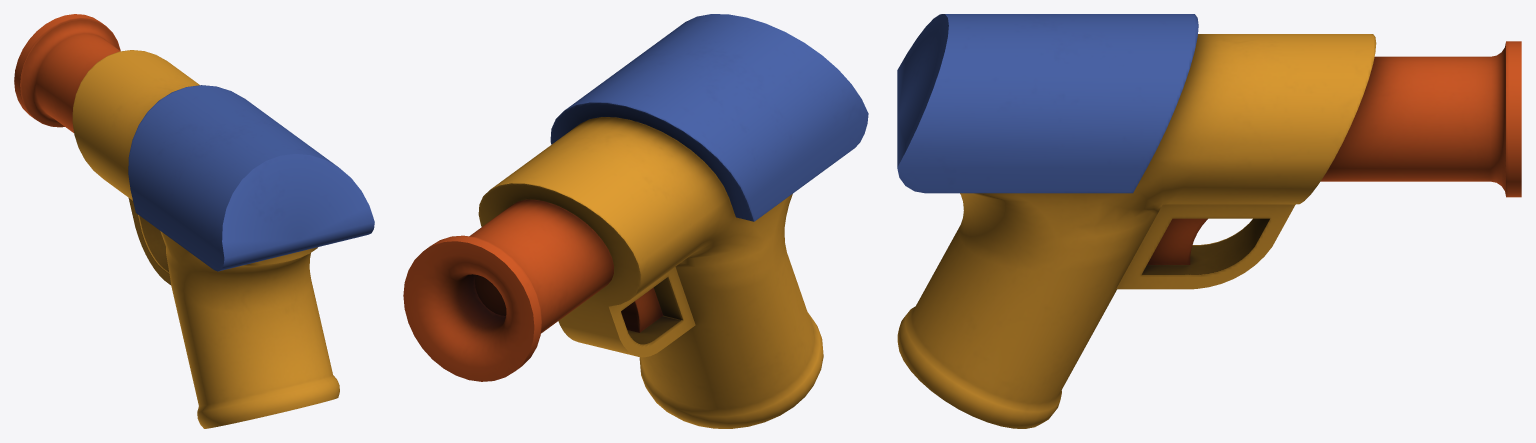
The model's file is Toy Gun 1.fbx.
3 renders of one model, left to right at view 1: azimuth 30°, elevation 25°; view 2: azimuth 150°, elevation 25°; view 3: azimuth 270°, elevation 25°, orthographic. The views are drawn at different scales.
Parts seen in each view (by area): view 1: Toy_Gun_1; view 2: Toy_Gun_1; view 3: Toy_Gun_1.
Boxes of the visible parts, <box> form: Toy_Gun_1: <box>14,14,374,428</box>; Toy_Gun_1: <box>403,14,868,428</box>; Toy_Gun_1: <box>897,14,1521,428</box>.
Bounding box in the file's own units: 7.13 × 13.11 × 19.26.
Materials: 1 (1 with a texture image).
